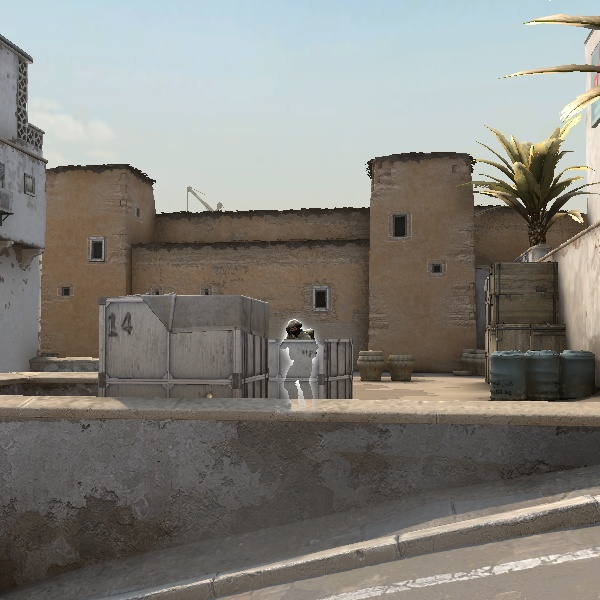ct_body: (277, 317, 318, 402)
ct_head: (285, 318, 304, 338)
